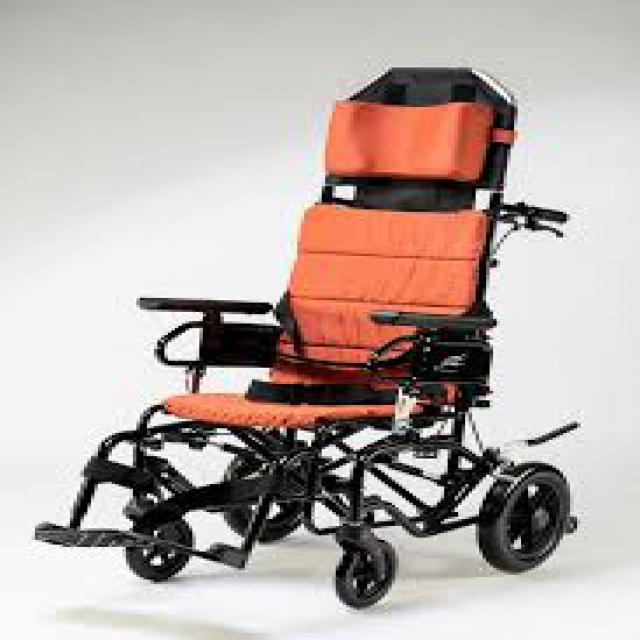wheelchair: (28, 58, 588, 614)
